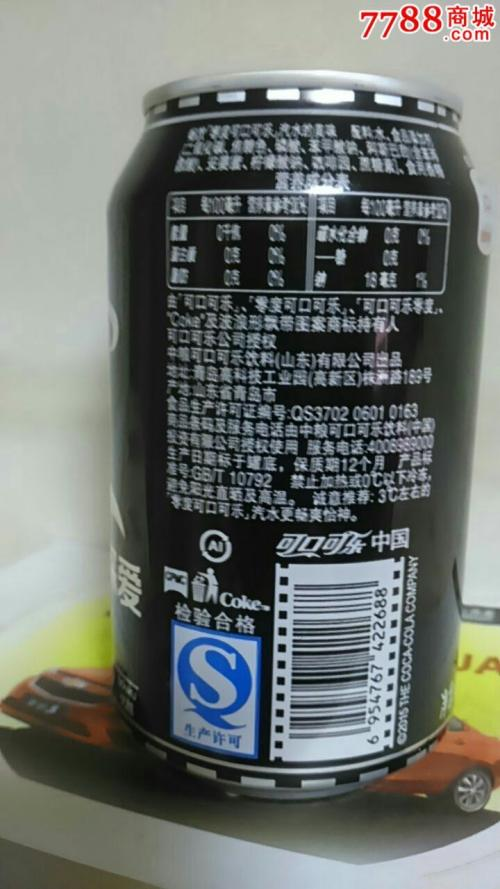coke_zero: (69, 43, 500, 842)
